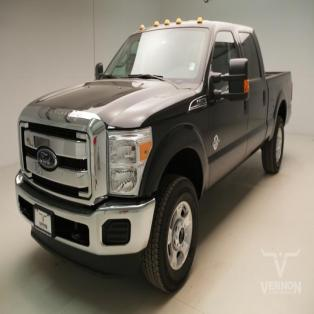Auto: (14, 18, 293, 297)
